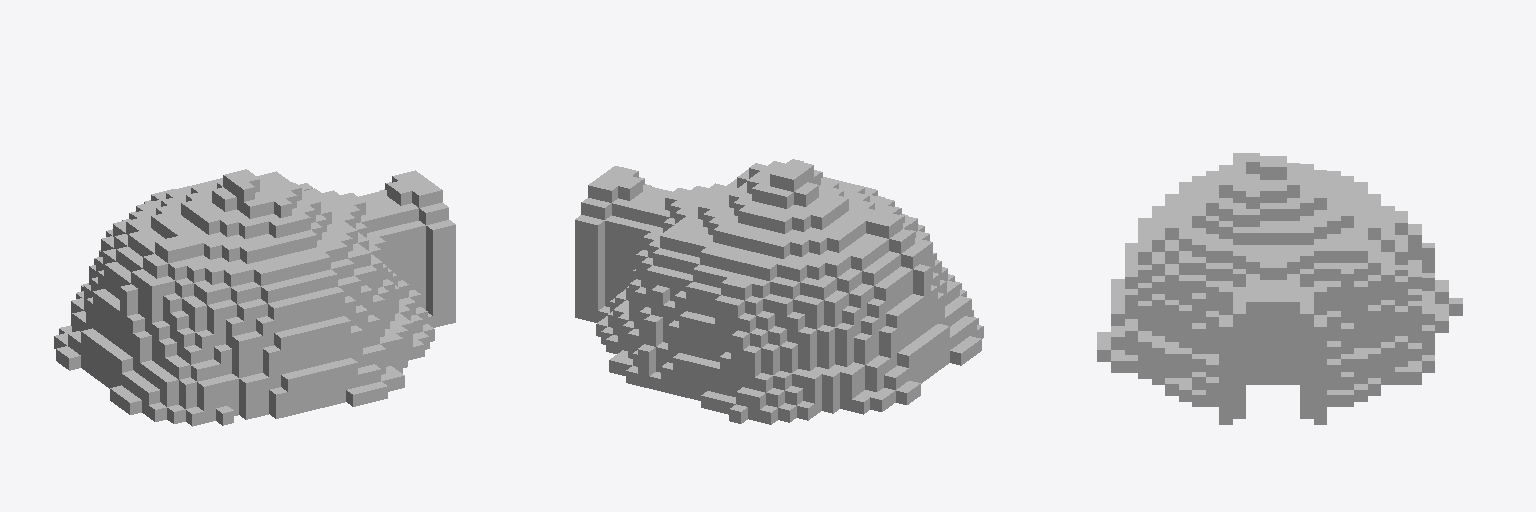
File: Igloo.obj
The picture shows the model from 3 angles: view 1: azimuth 30°, elevation 25°; view 2: azimuth 150°, elevation 25°; view 3: azimuth 270°, elevation 25°; orthographic projection.
Visible parts, largest first — view 1: Igloo; view 2: Igloo; view 3: Igloo.
Part boxes in pixels (x1,y1,x2,y2): Igloo: (54,169,455,426); Igloo: (575,159,983,424); Igloo: (1097,153,1462,424).
Size of the model in its own units: 29 by 14 by 27.